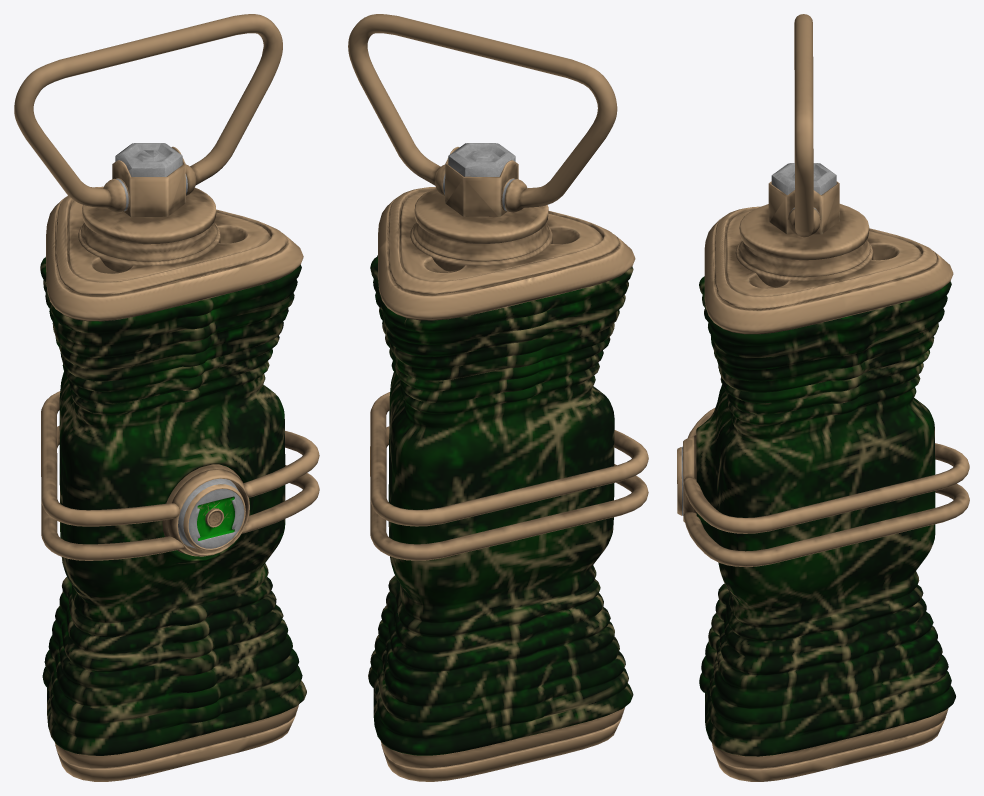
The model's file is john_stewart_lantern_low.glb.
The picture shows the model from 3 angles, left to right: view 1: azimuth 30°, elevation 25°; view 2: azimuth 150°, elevation 25°; view 3: azimuth 270°, elevation 25°; orthographic projection. The views are drawn at different scales.
Visible parts, largest first — view 1: lantern_lantern_0, gold_gold_0, metal_metal_0; view 2: lantern_lantern_0, gold_gold_0, metal_metal_0; view 3: lantern_lantern_0, gold_gold_0, metal_metal_0.
Boxes of the visible parts, bbox=[...] form: lantern_lantern_0: bbox=[40, 257, 306, 755]; gold_gold_0: bbox=[14, 14, 319, 781]; metal_metal_0: bbox=[115, 143, 244, 548]; lantern_lantern_0: bbox=[368, 255, 633, 755]; gold_gold_0: bbox=[348, 14, 648, 781]; metal_metal_0: bbox=[443, 143, 515, 210]; lantern_lantern_0: bbox=[696, 276, 955, 756]; gold_gold_0: bbox=[677, 14, 969, 781]; metal_metal_0: bbox=[681, 163, 836, 515].
Size of the model in its own units: 1.01 by 2.5 by 0.99.
3 materials, 3 textured.
